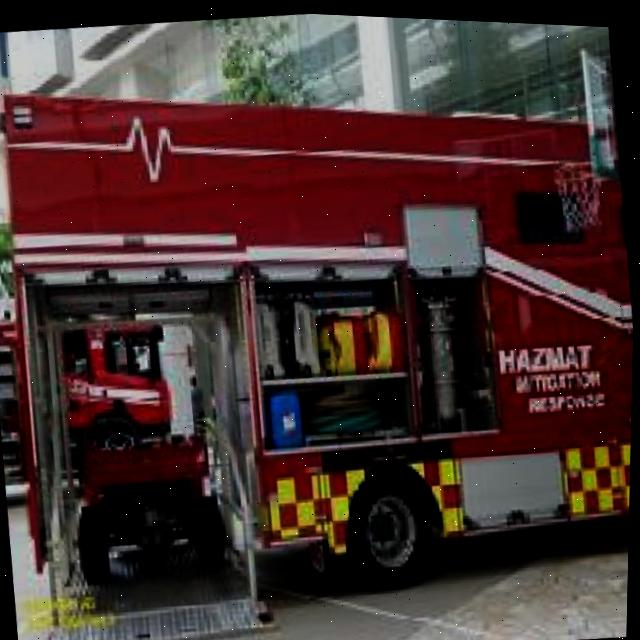emergency: (0, 19, 640, 635)
